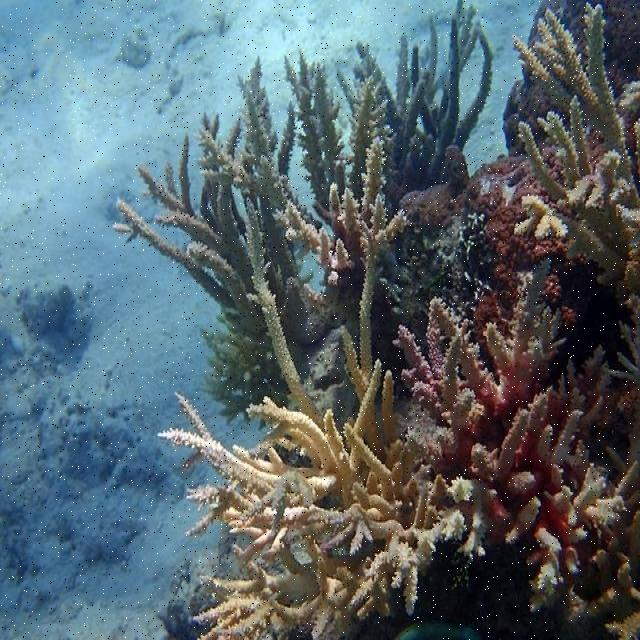aquatic plants: (149, 282, 629, 638), (116, 15, 490, 413), (505, 4, 631, 298)
